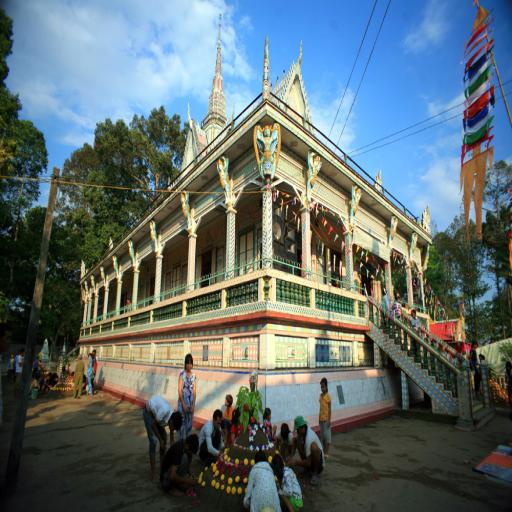lua: (223, 103, 239, 133), (183, 98, 196, 132), (295, 34, 305, 74)
ran: (416, 200, 435, 241), (370, 166, 386, 196), (77, 254, 91, 282), (106, 234, 116, 253)
than: (249, 114, 283, 191), (212, 155, 236, 215), (340, 179, 359, 232), (305, 148, 322, 202), (178, 187, 196, 235), (383, 204, 400, 244), (146, 218, 161, 258), (420, 236, 434, 275), (126, 238, 138, 272), (88, 271, 100, 302), (110, 255, 122, 284), (408, 227, 418, 261), (98, 264, 109, 291), (82, 274, 91, 304)
